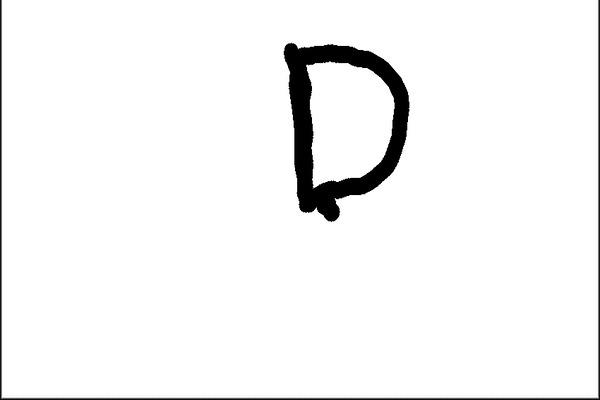D: (280, 37, 412, 233)
